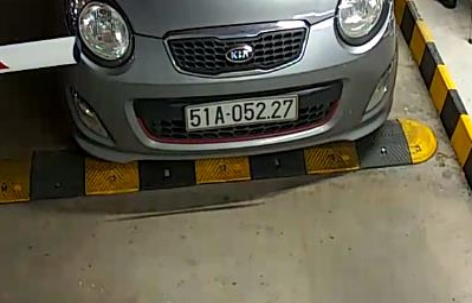plate: (185, 93, 301, 130)
